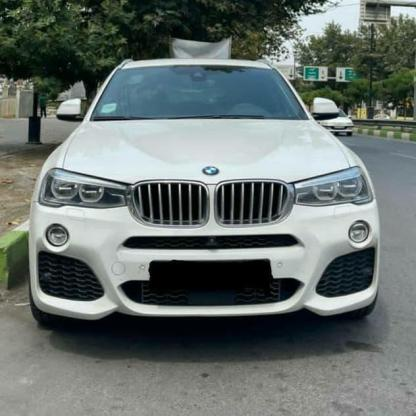Car: (30, 51, 383, 342), (306, 97, 364, 141)
